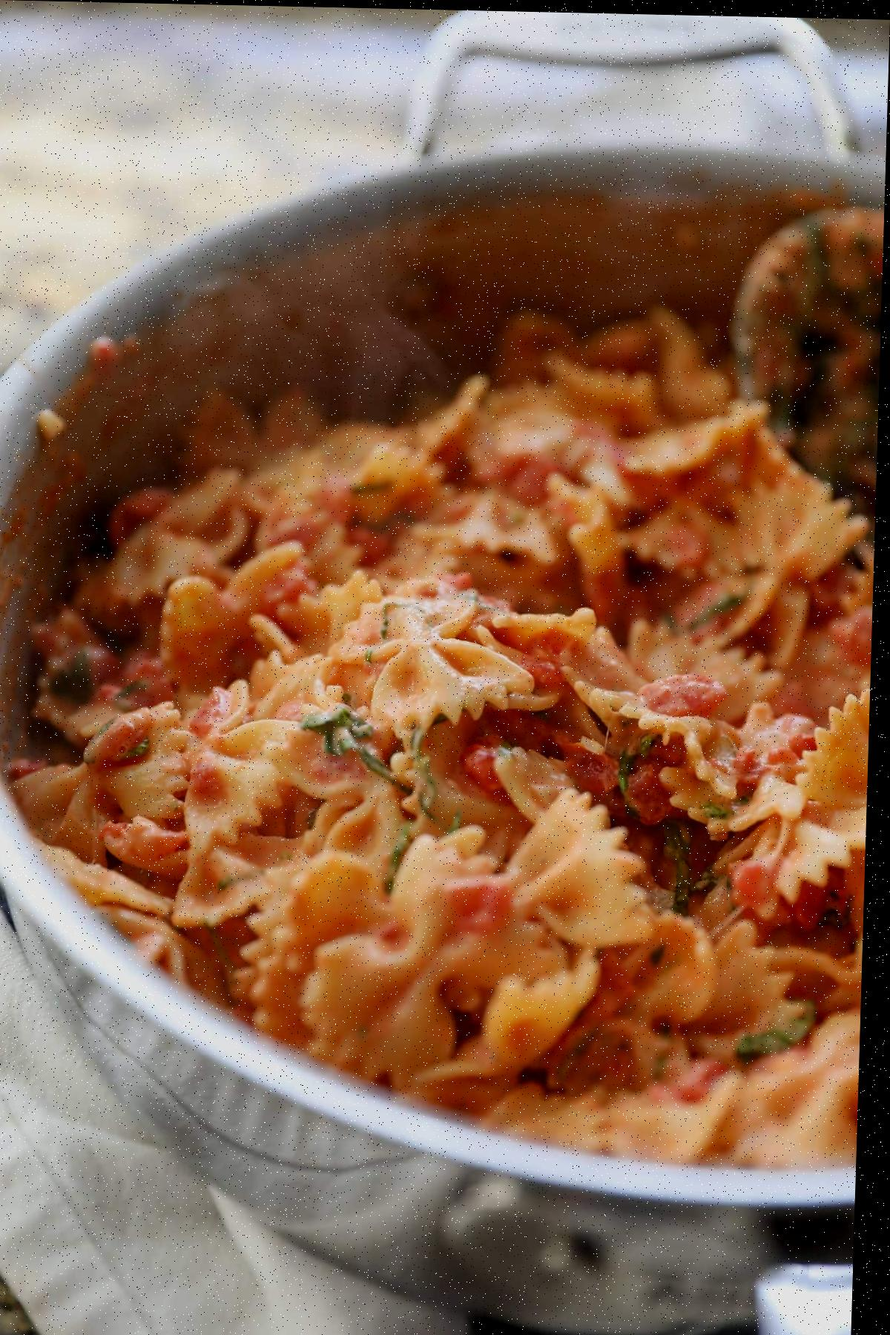pasta: (12, 310, 873, 1164)
